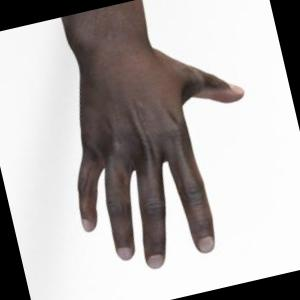paper: (62, 0, 243, 268)
